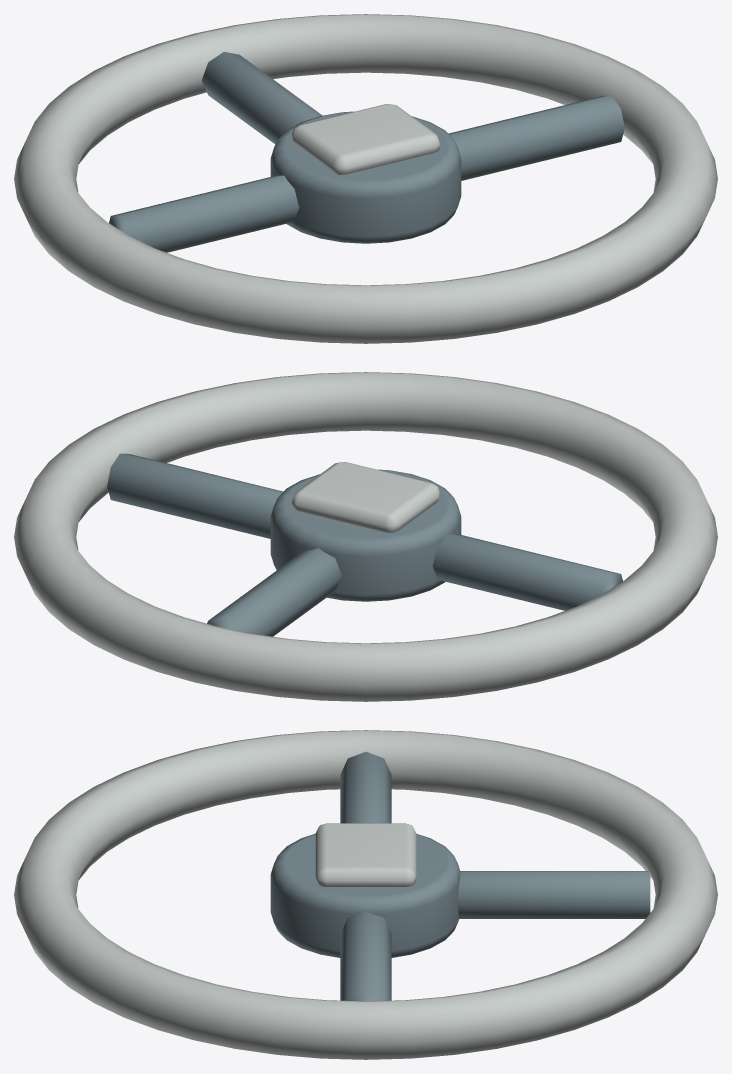
Rendered from steering-wheel.glb.
3 renders of one model, top to bottom at view 1: azimuth 30°, elevation 25°; view 2: azimuth 150°, elevation 25°; view 3: azimuth 270°, elevation 25°, orthographic.
Parts seen in each view (by area): view 1: rim, hub, spoke_3.141592653589793, spoke_0, horn, spoke_4.71238898038469; view 2: rim, hub, spoke_3.141592653589793, spoke_0, horn, spoke_4.71238898038469; view 3: rim, hub, spoke_4.71238898038469, horn, spoke_3.141592653589793, spoke_0.
Part boxes in pixels (x1,y1,x2,y2): rim: (14,14,717,343); hub: (270,111,461,243); spoke_3.141592653589793: (448,95,624,180); spoke_0: (109,175,299,252); horn: (292,104,439,174); spoke_4.71238898038469: (201,52,322,144); rim: (14,372,717,701); hub: (270,469,461,601); spoke_3.141592653589793: (107,453,283,538); spoke_0: (432,533,622,610); horn: (292,462,439,532); spoke_4.71238898038469: (207,548,341,636); rim: (14,730,717,1059); hub: (270,833,460,957); spoke_4.71238898038469: (457,871,650,918); horn: (315,823,416,886); spoke_3.141592653589793: (340,911,391,1001); spoke_0: (340,751,391,823).
Bounding box in the file's own units: 0.384 × 0.048 × 0.384.
